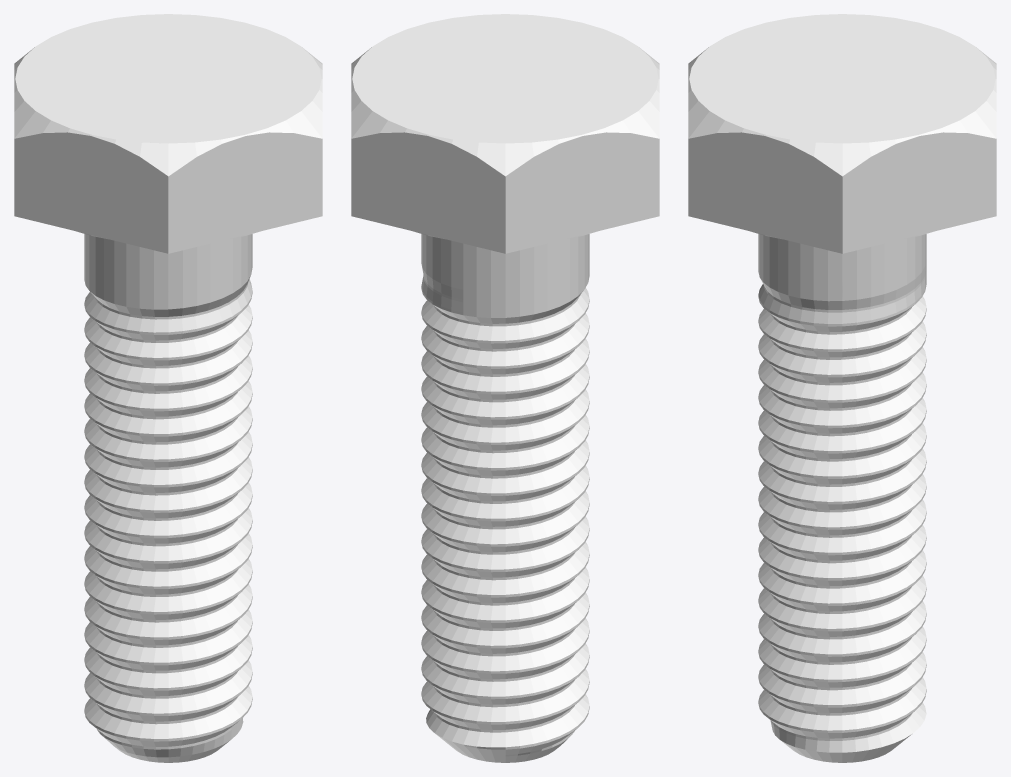
3 views of the same model, side by side, from view 1: azimuth 30°, elevation 25°; view 2: azimuth 150°, elevation 25°; view 3: azimuth 270°, elevation 25° (orthographic).
Parts seen in each view (by area): view 1: M3x12; view 2: M3x12; view 3: M3x12.
Boxes of the visible parts, box(x1,y1,x2,y2) form: M3x12: box(14, 14, 322, 762); M3x12: box(351, 14, 659, 762); M3x12: box(688, 14, 996, 762).
Size of the model in its own units: 635 by 1300 by 550.
Materials: 1 (1 with a texture image).
